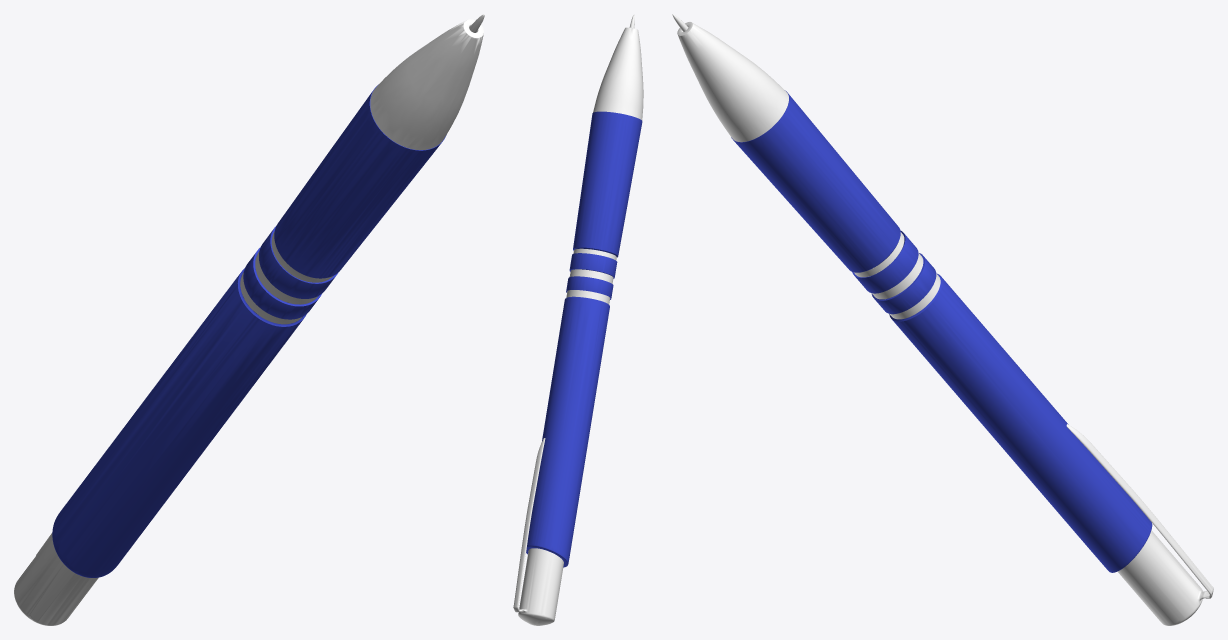
The model's file is pen.glb.
The picture shows the model from 3 angles, left to right: view 1: azimuth 30°, elevation 25°; view 2: azimuth 150°, elevation 25°; view 3: azimuth 270°, elevation 25°; orthographic projection. The views are drawn at different scales.
Visible parts, largest first — view 1: Pen_Material_0, Pen_Material.001_0; view 2: Pen_Material_0, Pen_Material.001_0; view 3: Pen_Material_0, Pen_Material.001_0.
Boxes of the visible parts, x1,y1,x2,y2 form: Pen_Material_0: (52,84,446,577); Pen_Material.001_0: (14,14,484,625); Pen_Material_0: (526,111,642,567); Pen_Material.001_0: (513,14,643,625); Pen_Material_0: (731,90,1152,572); Pen_Material.001_0: (672,14,1213,625).
Size of the model in its own units: 0.7684 by 3.25 by 2.4.
